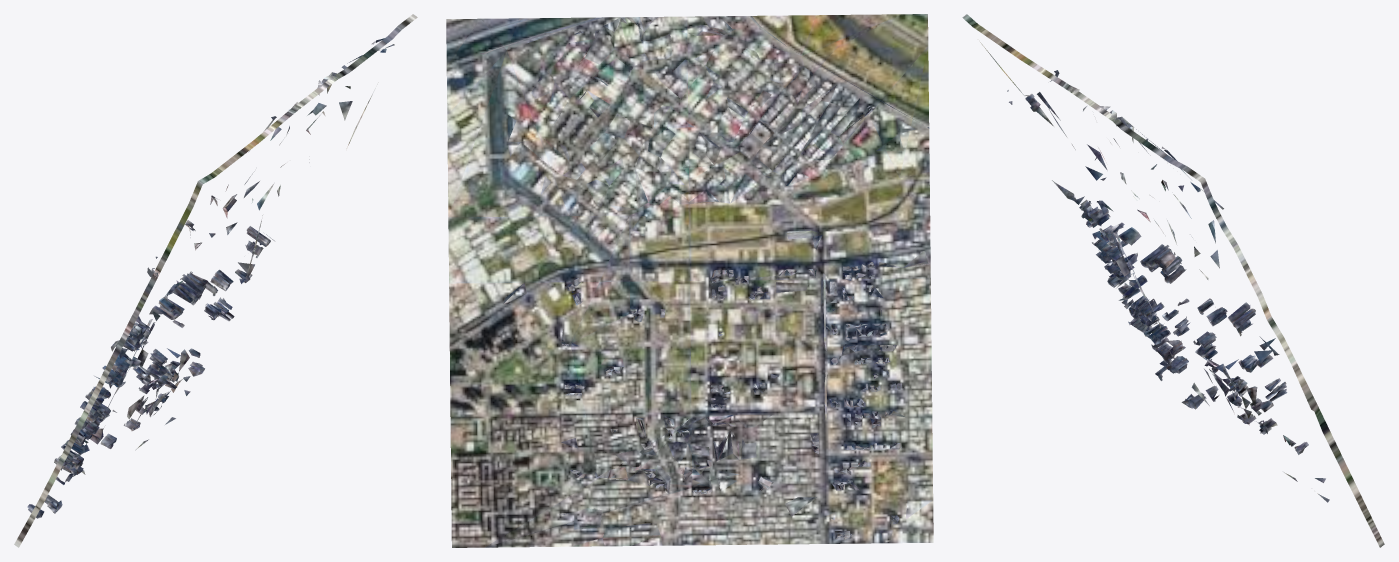
3 renders of one model, left to right at view 1: azimuth 30°, elevation 25°; view 2: azimuth 150°, elevation 25°; view 3: azimuth 270°, elevation 25°, orthographic. The views are drawn at different scales.
Size of the model in its own units: 2445 by 2236 by 2054.
2 materials, 2 textured.
